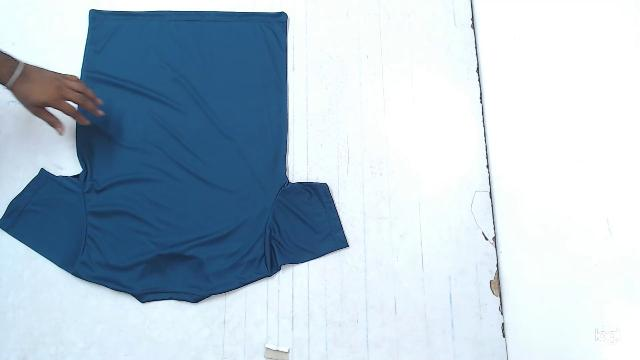new-garment: (0, 10, 348, 302)
